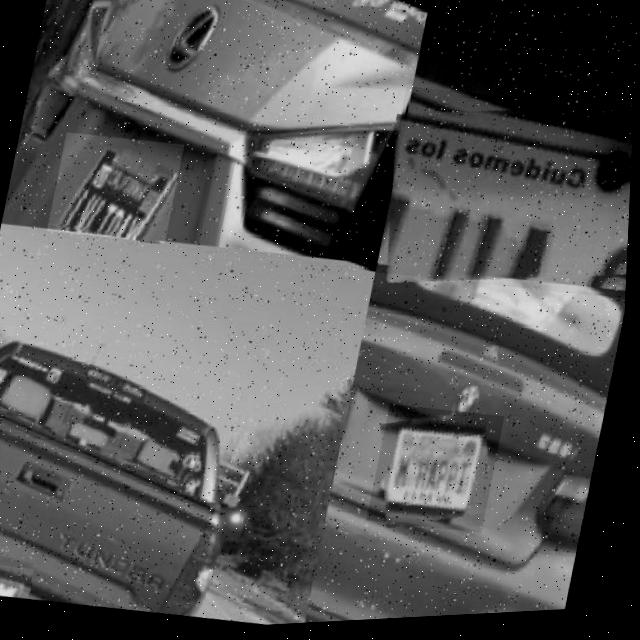LicensePlate: (370, 81, 636, 316), (371, 404, 510, 543), (49, 129, 187, 250), (0, 570, 37, 594)
